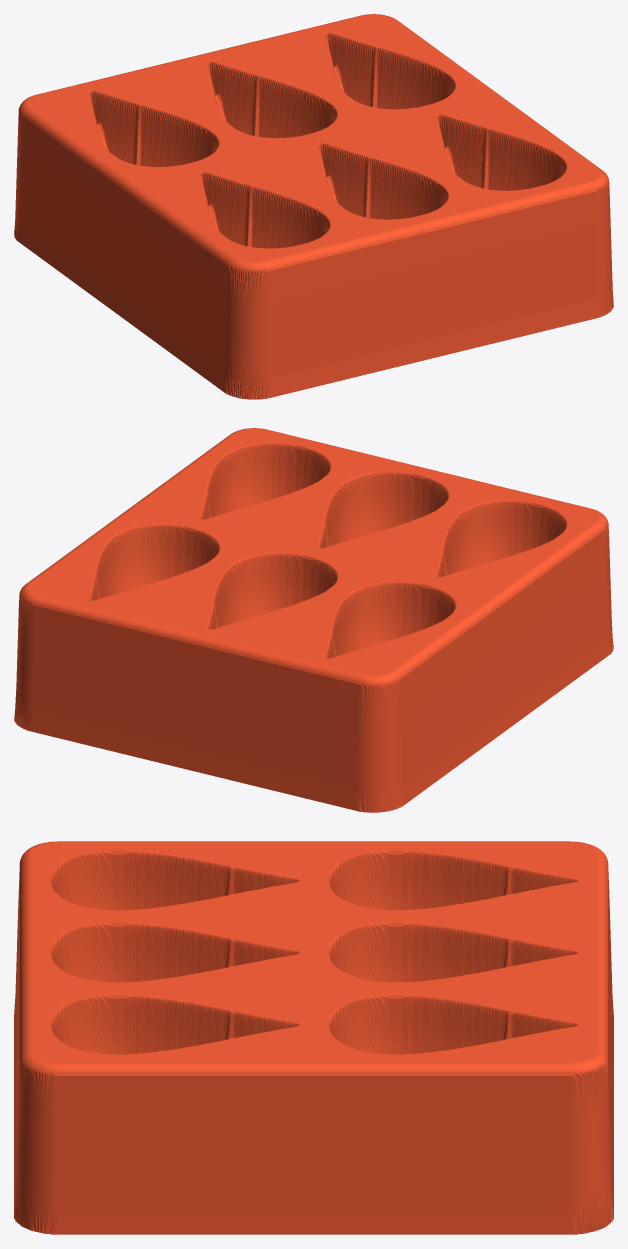
The model's file is mold.glb.
The picture shows the model from 3 angles, top to bottom: view 1: azimuth 30°, elevation 25°; view 2: azimuth 150°, elevation 25°; view 3: azimuth 270°, elevation 25°; orthographic projection. The views are drawn at different scales.
Visible parts, largest first — view 1: geometry_0; view 2: geometry_0; view 3: geometry_0.
Boxes of the visible parts, box(x1,y1,x2,y2) form: geometry_0: box(14, 14, 613, 399); geometry_0: box(14, 428, 613, 812); geometry_0: box(14, 841, 613, 1234).
Size of the model in its own units: 0.1155 by 0.0377 by 0.1246.
